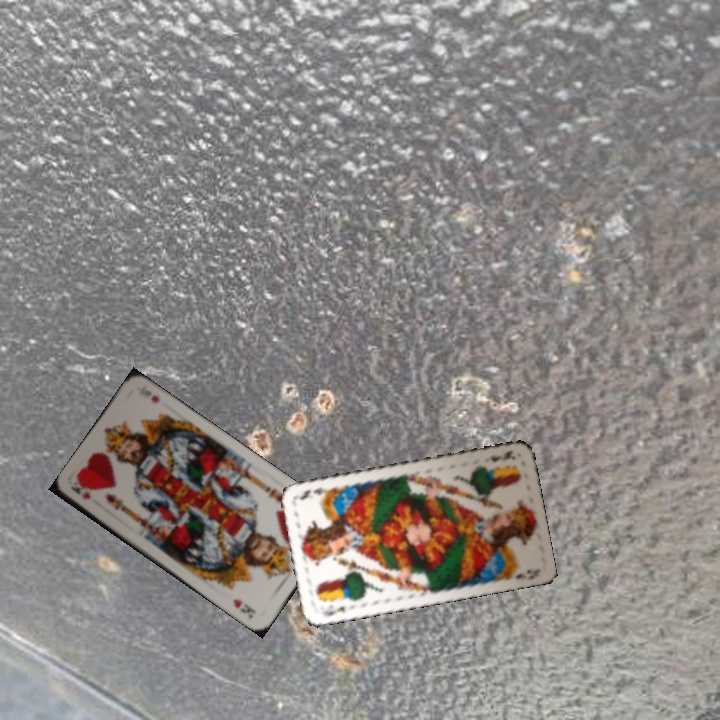EK: (486, 446, 518, 465), (318, 601, 348, 619)
HK: (67, 482, 93, 502)
